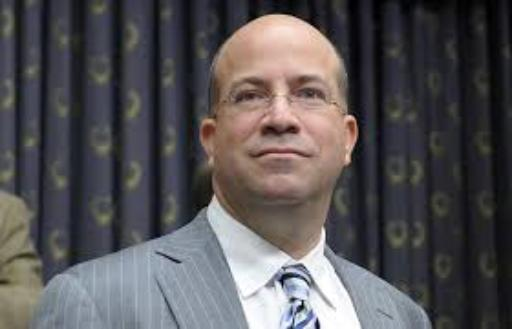left_eye: (294, 89, 325, 102)
left_lip_corner: (304, 151, 320, 163)
right_eye: (233, 92, 268, 105)
right_lip_corner: (246, 150, 262, 162)
